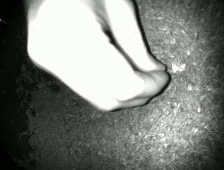corn: (170, 62, 179, 75), (180, 61, 188, 70)
